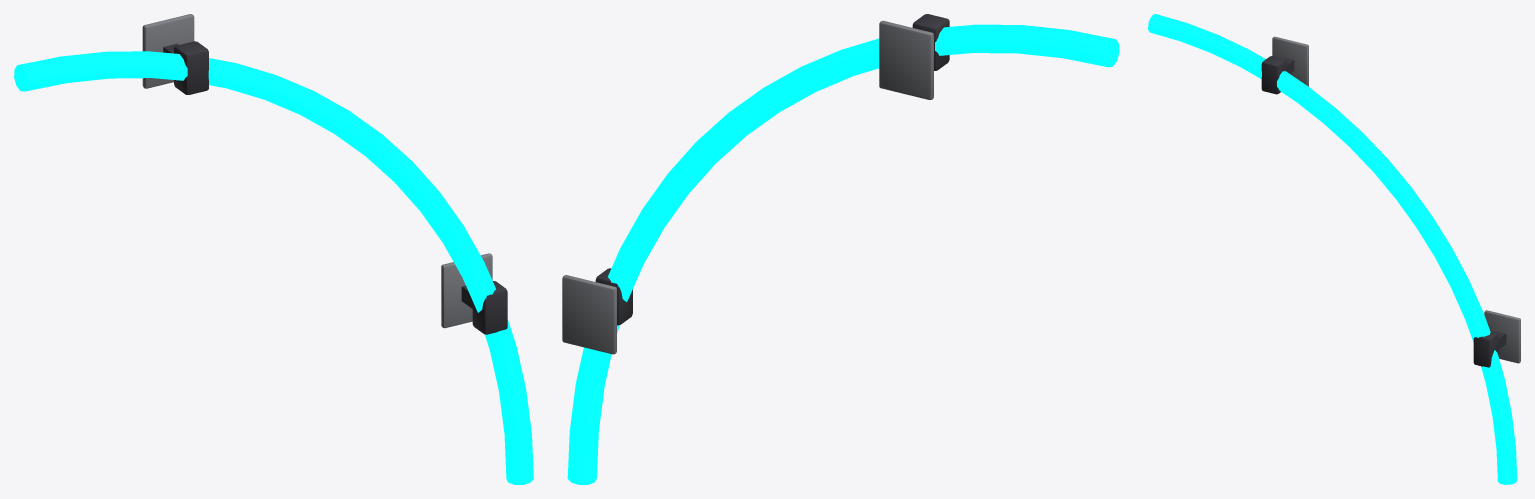
The model's file is KIT_Neon_Curva_Ciano.glb.
3 renders of one model, left to right at view 1: azimuth 30°, elevation 25°; view 2: azimuth 150°, elevation 25°; view 3: azimuth 330°, elevation 25°, orthographic. The views are drawn at different scales.
Parts seen in each view (by area): view 1: KIT_Neon_Curva_Ciano; view 2: KIT_Neon_Curva_Ciano; view 3: KIT_Neon_Curva_Ciano.
Part boxes in pixels (x1,y1,x2,y2): KIT_Neon_Curva_Ciano: (14,14,533,484); KIT_Neon_Curva_Ciano: (562,14,1119,484); KIT_Neon_Curva_Ciano: (1148,14,1520,484).
Bounding box in the file's own units: 0.5125 × 0.5125 × 0.055.
